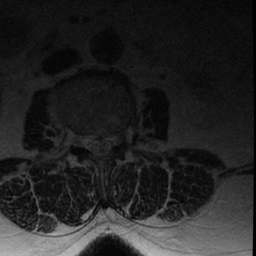CCS_normal: (95, 122, 103, 166)
LFS_normal: (113, 121, 124, 154)
LLS_normal: (103, 122, 113, 163)
RFS_normal: (77, 121, 86, 157)
RLS_normal: (86, 122, 95, 159)
